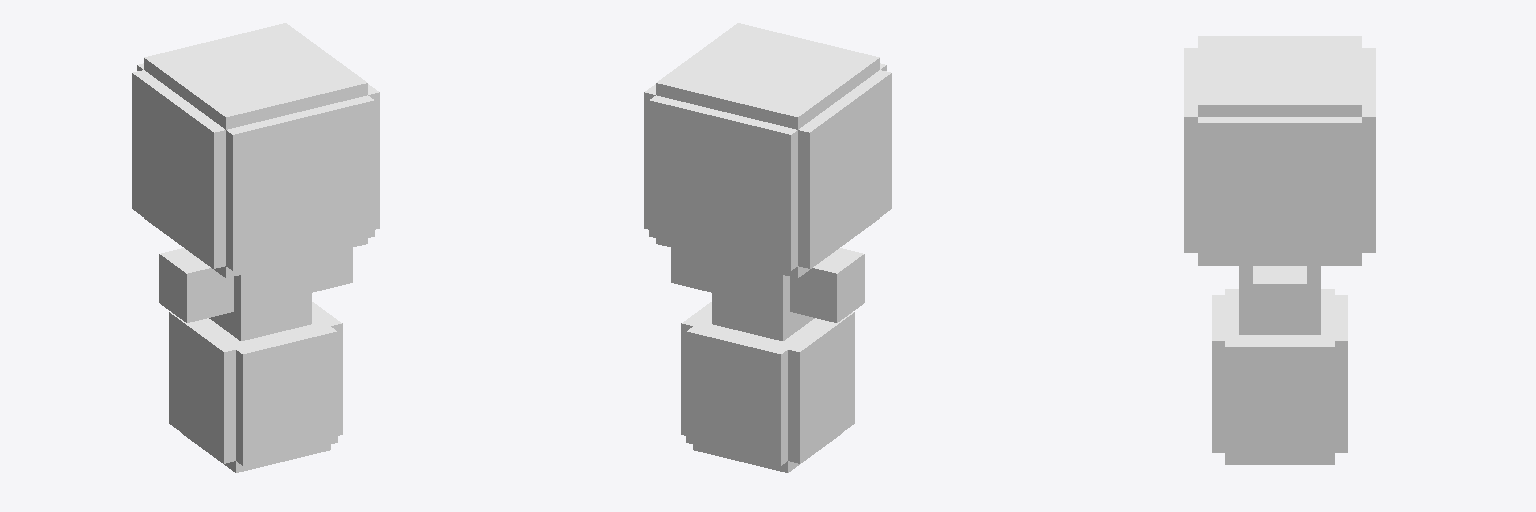
Rendered from body5.obj.
The picture shows the model from 3 angles: view 1: azimuth 30°, elevation 25°; view 2: azimuth 150°, elevation 25°; view 3: azimuth 270°, elevation 25°; orthographic projection.
Visible parts, largest first — view 1: object 1; view 2: object 1; view 3: object 1.
Part boxes in pixels (bbox=[...]): object 1: bbox=[132, 23, 379, 472]; object 1: bbox=[644, 23, 891, 472]; object 1: bbox=[1184, 36, 1375, 464].
Bounding box in the file's own units: 1.4 × 3 × 1.4.